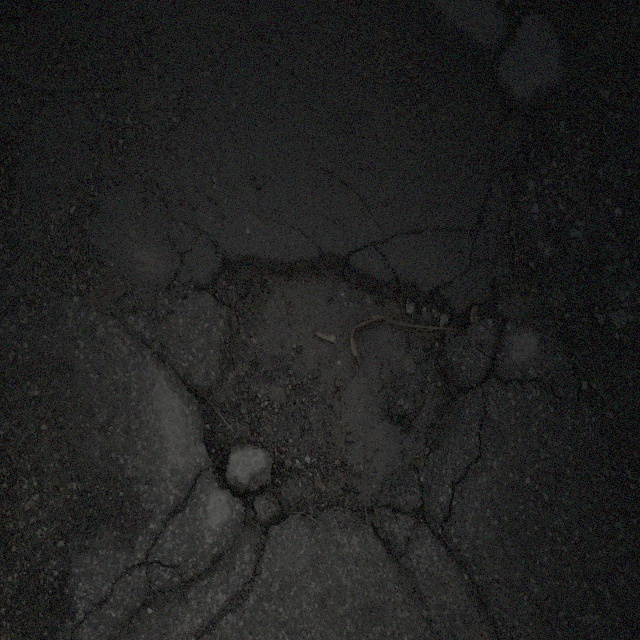pothole: (177, 230, 469, 547)
